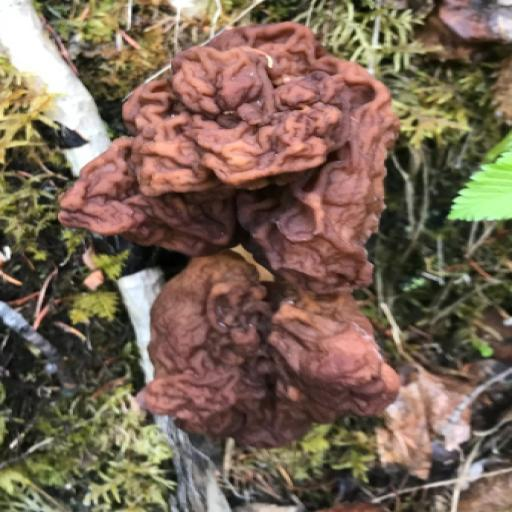mushroom: (55, 30, 403, 444)
